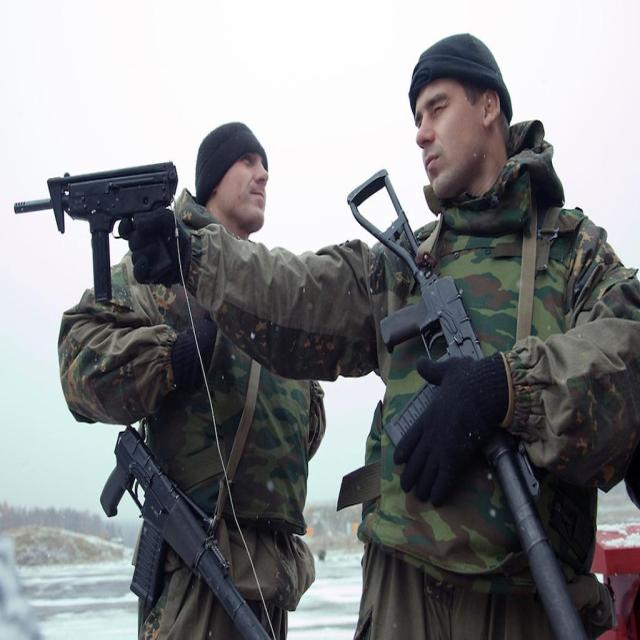Face: (410, 76, 478, 209), (220, 141, 273, 248)
